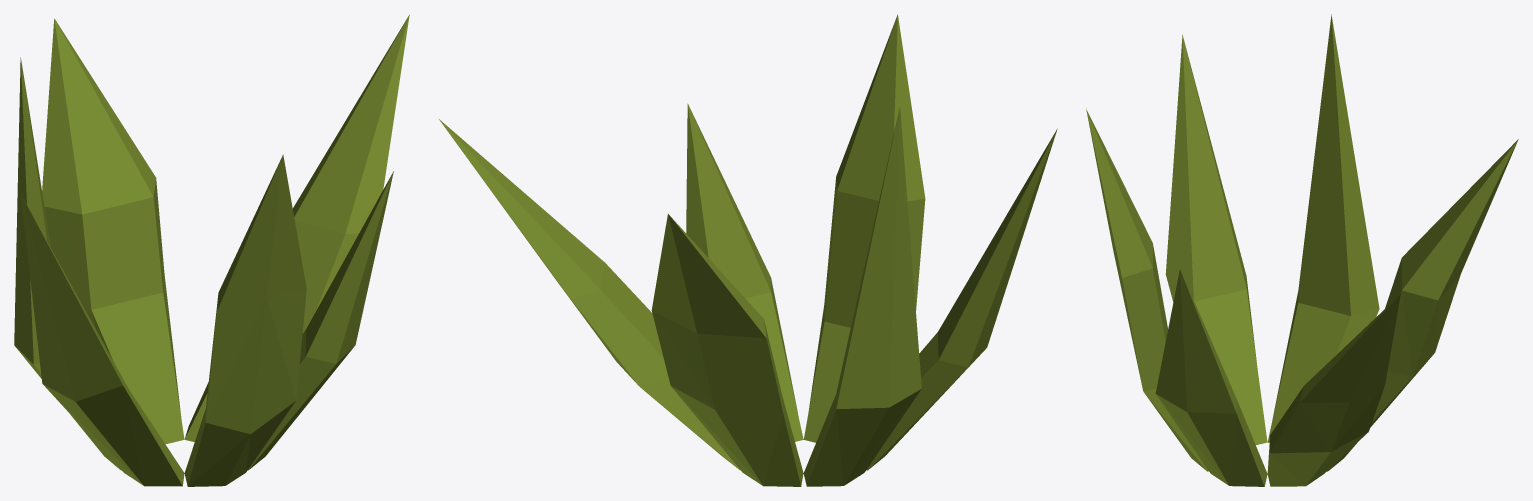
File: Plant_8.fbx
3 renders of one model, left to right at view 1: azimuth 30°, elevation 25°; view 2: azimuth 150°, elevation 25°; view 3: azimuth 270°, elevation 25°, orthographic. The views are drawn at different scales.
Parts seen in each view (by area): view 1: Plant_8; view 2: Plant_8; view 3: Plant_8.
Boxes of the visible parts, x1=… form: Plant_8: x1=14, y1=14, x2=409, y2=486; Plant_8: x1=439, y1=14, x2=1057, y2=486; Plant_8: x1=1086, y1=14, x2=1518, y2=486.
Size of the model in its own units: 0.6411 by 0.4943 by 0.5047.
